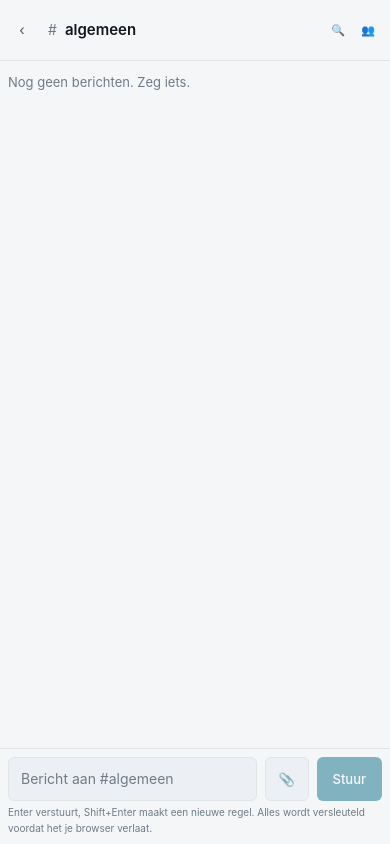
Test case: C — one column at a time on a phone › goes back to the list from a conversation
Expected: the text box with placeholder "Bericht aan #algemeen" is shown, [8,757,256,801]
Click the button named "Terug naar de lijst" at [22, 30], box [4,8,40,52]
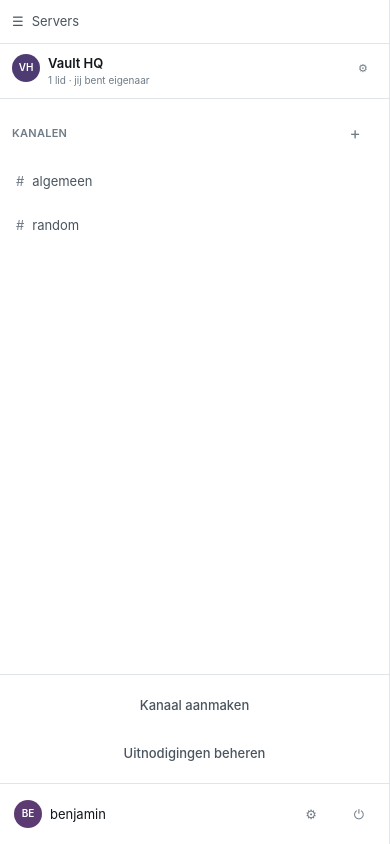
Expected: the field with placeholder "Bericht aan #algemeen" is not shown
Expected: the heading "Kanalen" is shown, [12,126,67,140]
